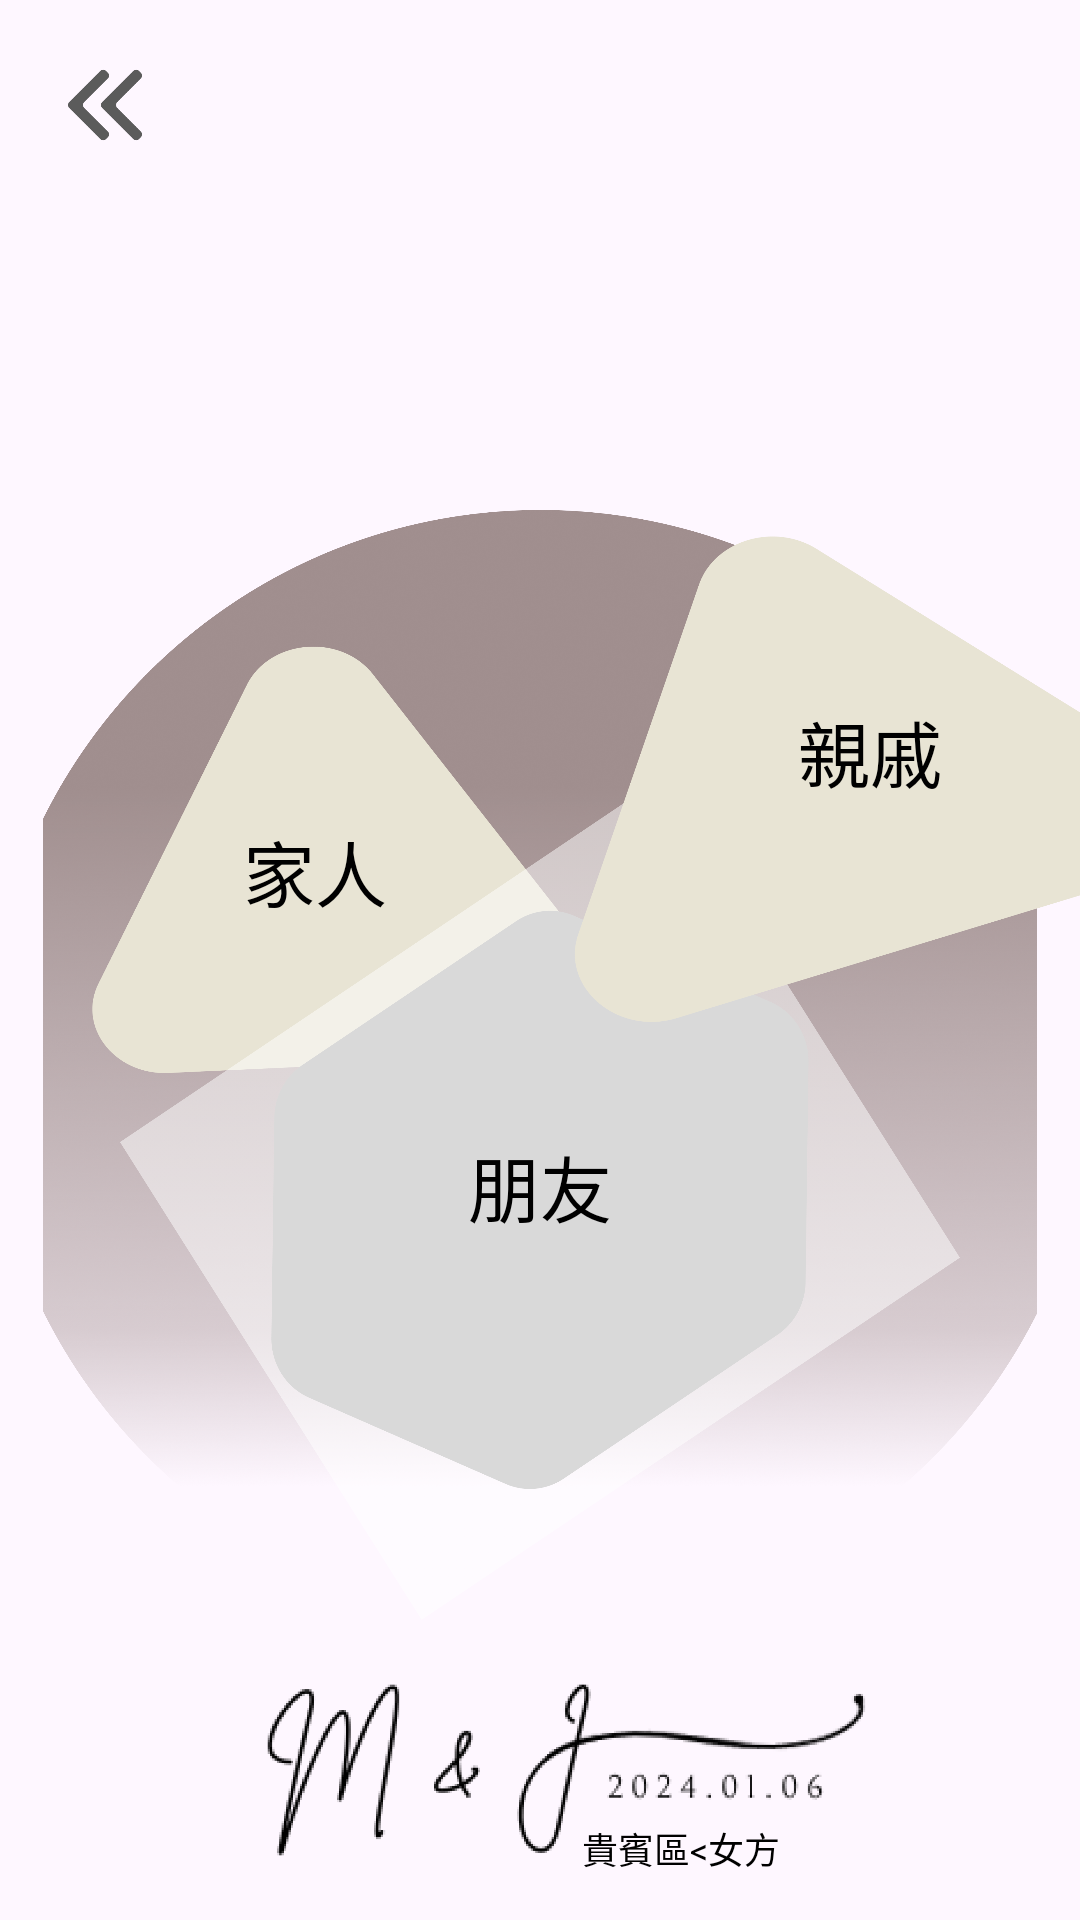

Where to tap for icons on this 1080x1920 app screen, as (x,y):
back: (105,105)
